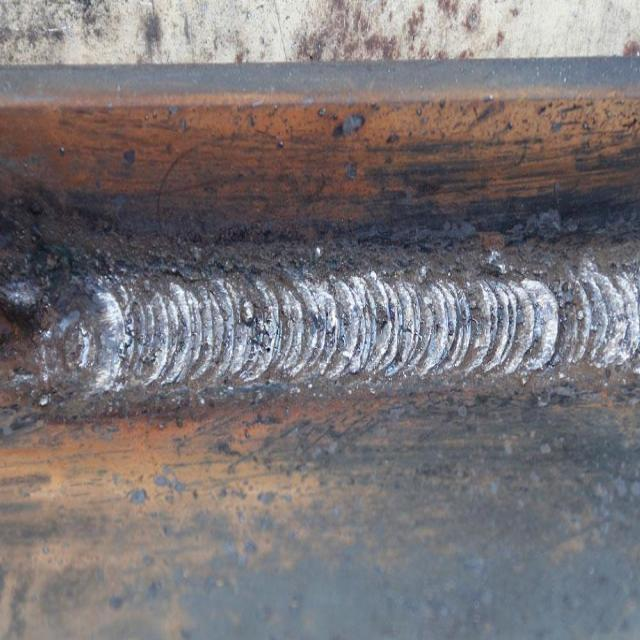Good Welding: (40, 262, 640, 394)
